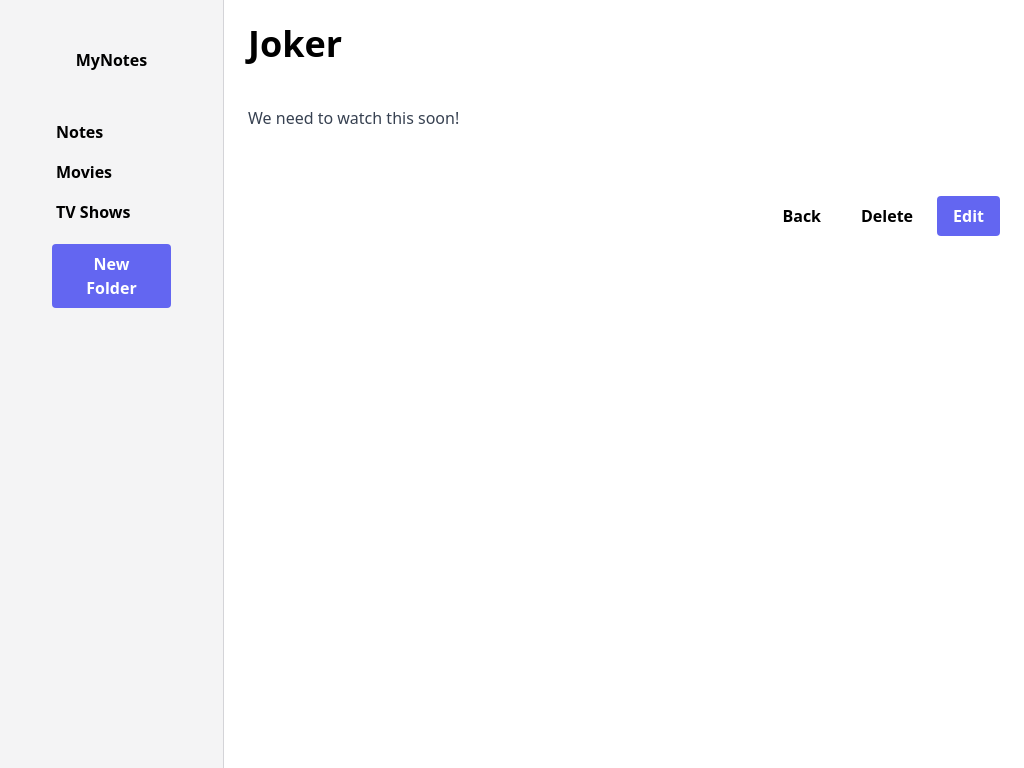
Test: should go to the edit page, when the edit button is clicked
The image size is (1024, 768).
Click the link "Edit" at (969, 216), box [937, 196, 1000, 236]
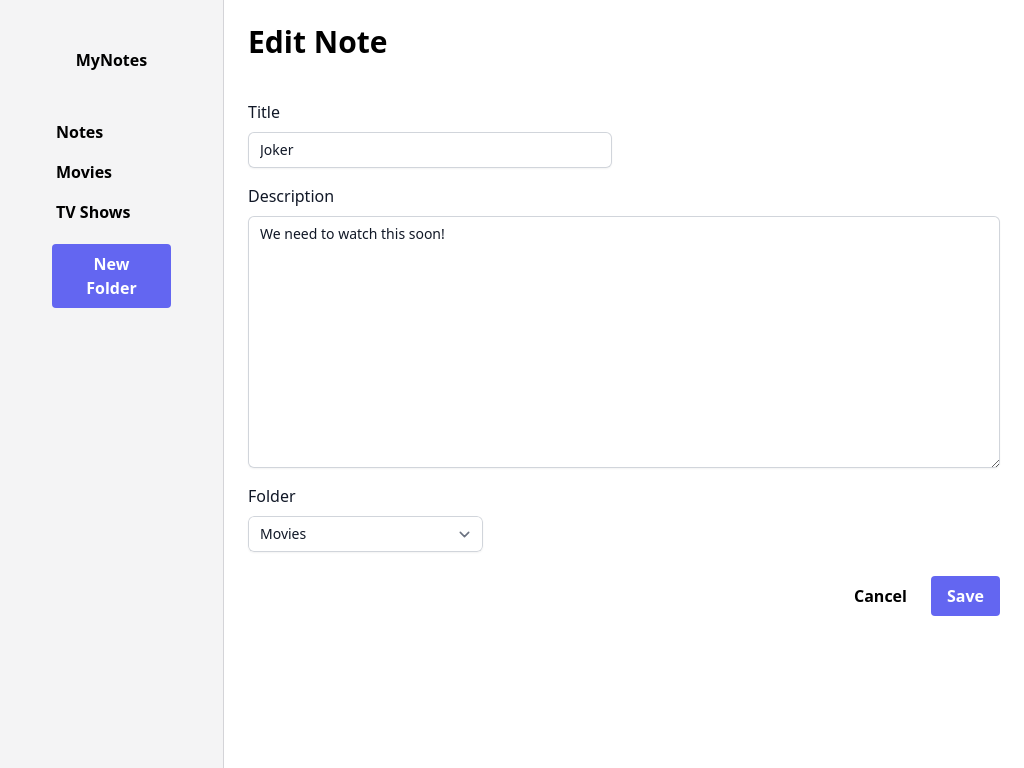
Now the heading "Edit Note" is shown, box [248, 21, 388, 62]
